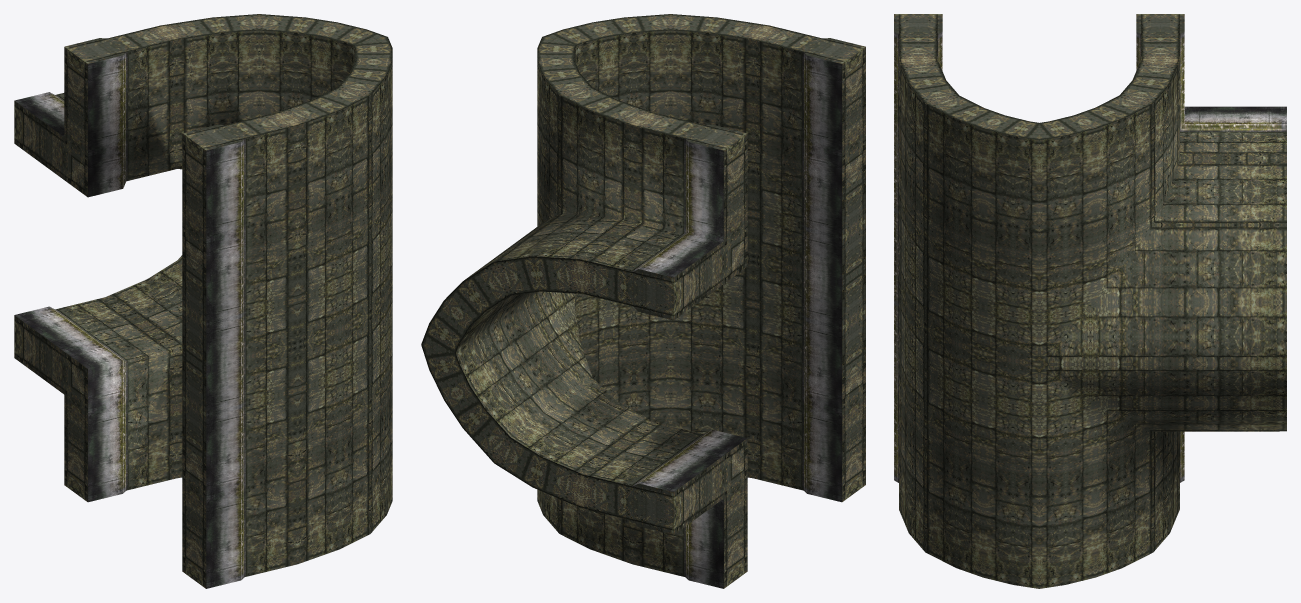
Rendered from Lab_ArcTriple.gltf.
The picture shows the model from 3 angles, left to right: view 1: azimuth 30°, elevation 25°; view 2: azimuth 150°, elevation 25°; view 3: azimuth 270°, elevation 25°; orthographic projection. The views are drawn at different scales.
Parts seen in each view (by area): view 1: Lab_ArcTriple; view 2: Lab_ArcTriple; view 3: Lab_ArcTriple.
Boxes of the visible parts, x1,y1,x2,y2 form: Lab_ArcTriple: (14,14,392,588); Lab_ArcTriple: (421,14,865,588); Lab_ArcTriple: (894,14,1286,588).
Bounding box in the file's own units: 0.0494 × 0.0819 × 0.065.
Materials: 1 (1 with a texture image).
